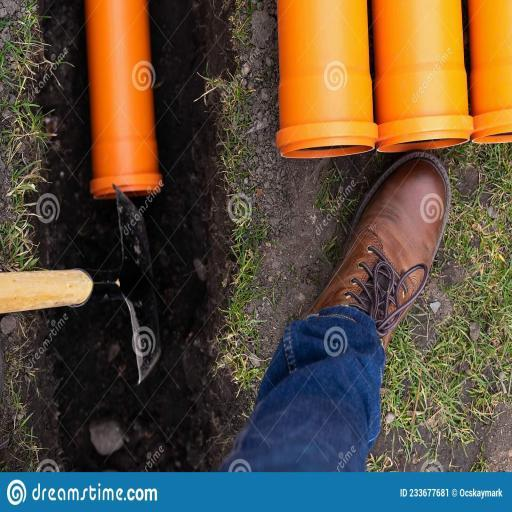safety_boots: (304, 152, 461, 366)
